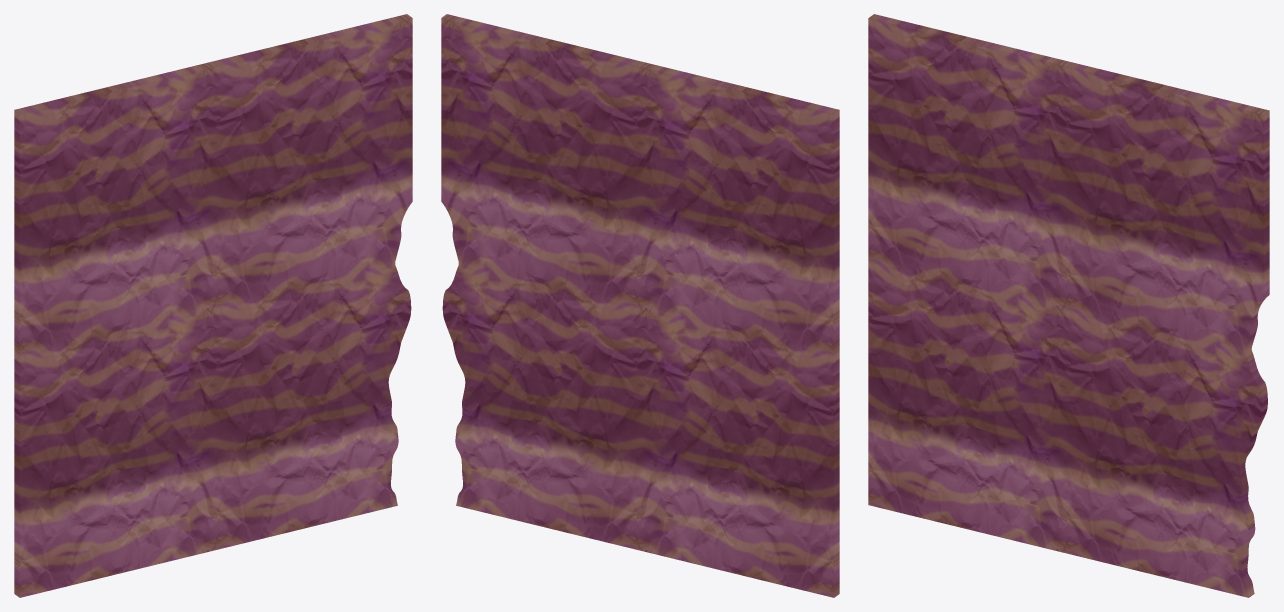
File: Sides_001.fbx
3 renders of one model, left to right at view 1: azimuth 30°, elevation 25°; view 2: azimuth 150°, elevation 25°; view 3: azimuth 330°, elevation 25°, orthographic.
Parts seen in each view (by area): view 1: Side; view 2: Side; view 3: Side.
Boxes of the visible parts, bbox=[...] form: Side: bbox=[14, 14, 412, 597]; Side: bbox=[441, 14, 839, 597]; Side: bbox=[868, 14, 1269, 597].
Bounding box in the file's own units: 2549 × 3000 × 63.
